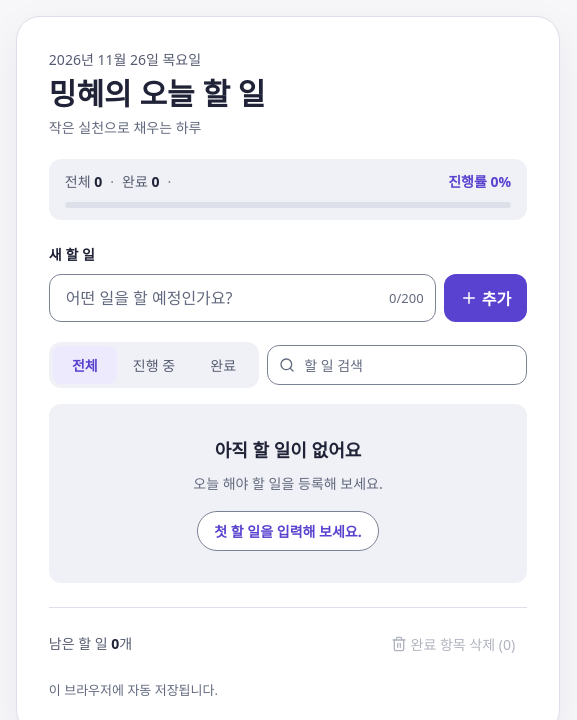
Scenario: App Component Integration › 체크박스 클릭으로 완료 상태를 전환할 수 있다
Type "산책하기" into the field with placeholder "어떤 일을 할 예정인가요?". click: (242, 298)
box: [49,274,436,322]
Then press Enter
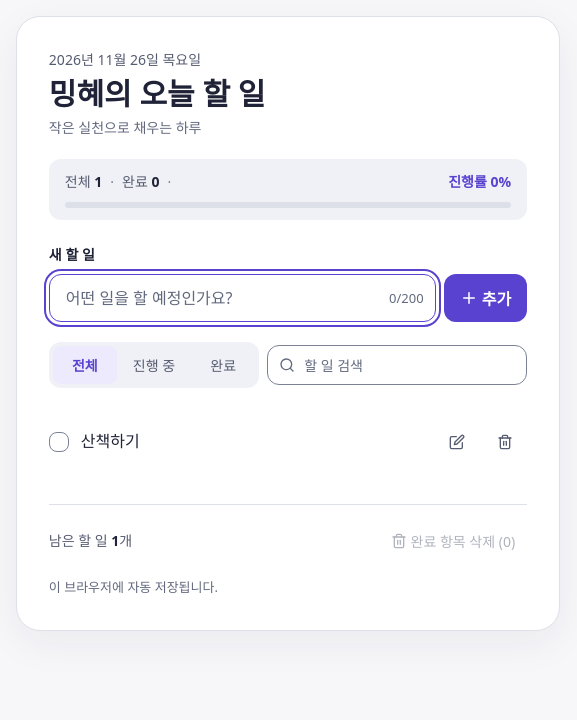
Expected: the checkbox labelled "산책하기" is not checked
Click the checkbox labelled "산책하기". click: (110, 441)
box: [81,430,140,452]
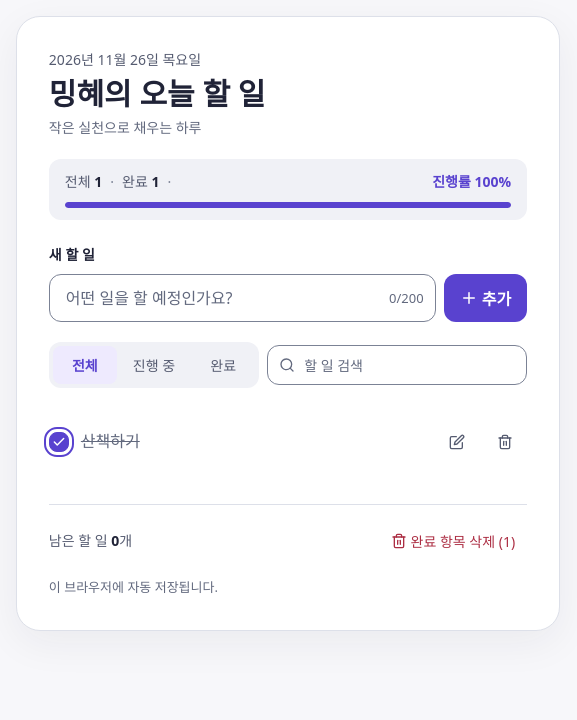
Expected: the checkbox labelled "산책하기" is checked, [81,430,140,452]
Expected: the text "진행률 100%" is shown, [432,171,511,194]
